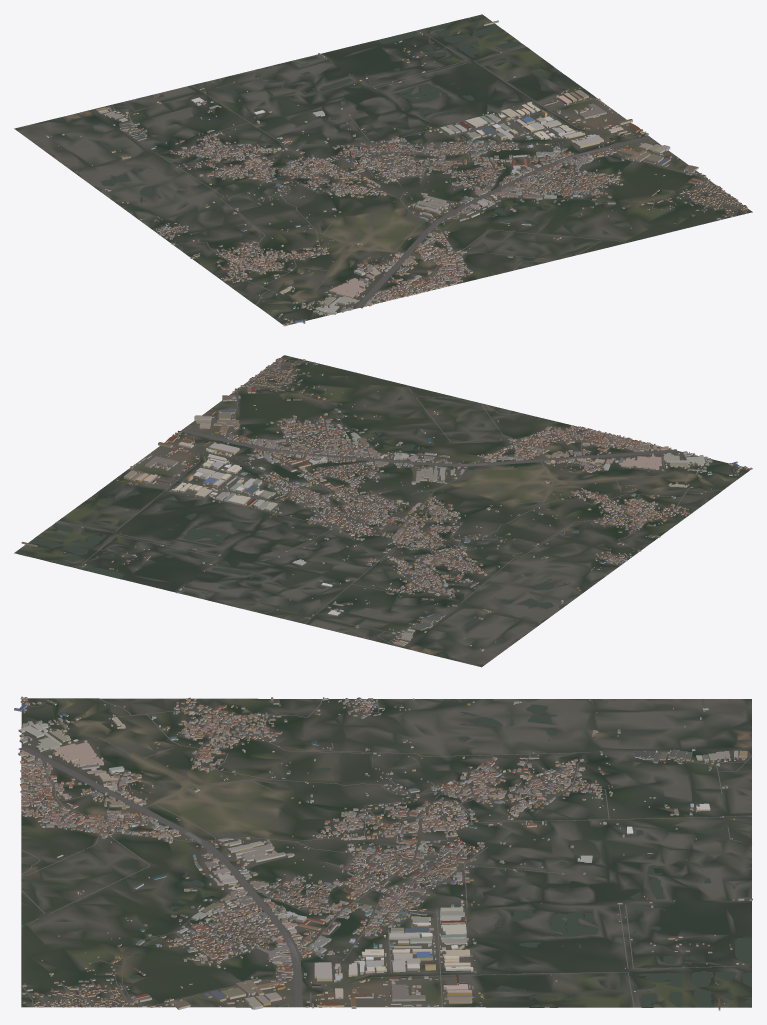
3 views of the same model, one above another, from view 1: azimuth 30°, elevation 25°; view 2: azimuth 150°, elevation 25°; view 3: azimuth 270°, elevation 25° (orthographic). The views are drawn at different scales.
Visible parts, largest first — view 1: ground, buildings, roads, water; view 2: ground, buildings, roads, water; view 3: ground, buildings, roads, water.
Boxes of the visible parts, bbox=[...] form: ground: bbox=[14, 14, 752, 325]; buildings: bbox=[45, 20, 747, 326]; roads: bbox=[100, 34, 747, 323]; water: bbox=[52, 15, 668, 236]; ground: bbox=[14, 355, 750, 667]; buildings: bbox=[21, 356, 752, 651]; roads: bbox=[58, 359, 742, 646]; water: bbox=[17, 395, 569, 643]; ground: bbox=[21, 698, 751, 1007]; buildings: bbox=[14, 696, 752, 1010]; roads: bbox=[18, 698, 751, 1007]; water: bbox=[129, 704, 751, 1007].
Bounding box in the file's own units: 2833 × 26.48 × 2836.
